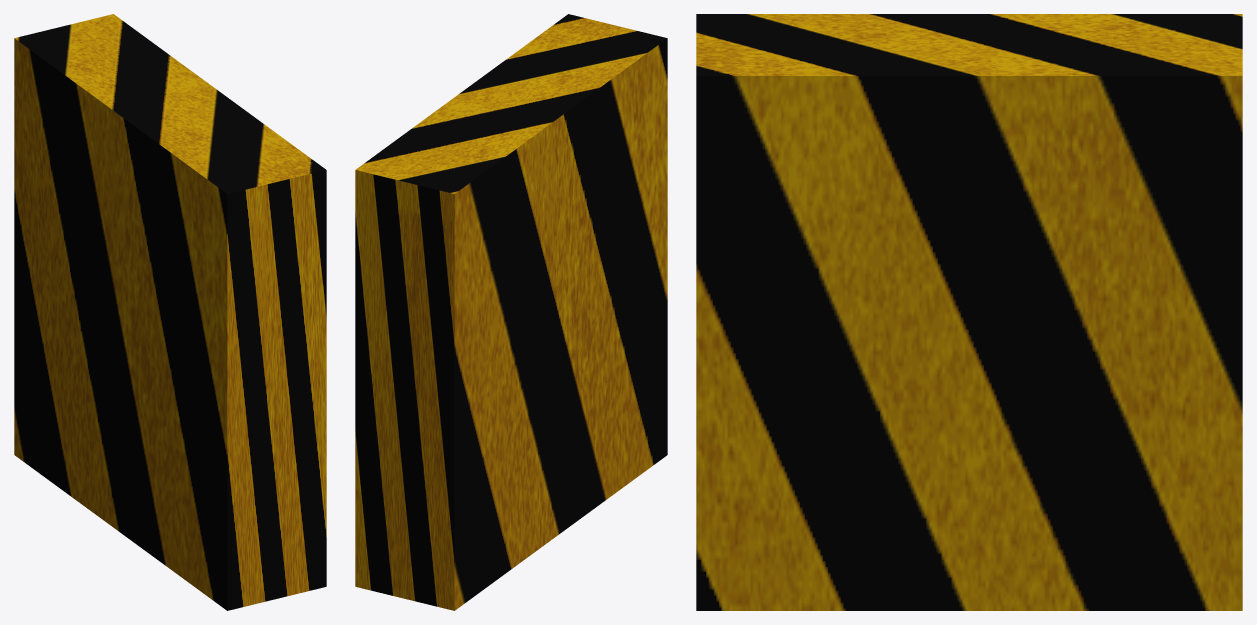
File: BasePalanca.glb
3 views of the same model, side by side, from view 1: azimuth 30°, elevation 25°; view 2: azimuth 150°, elevation 25°; view 3: azimuth 270°, elevation 25° (orthographic). The views are drawn at different scales.
Parts seen in each view (by area): view 1: Cubo.029; view 2: Cubo.029; view 3: Cubo.029.
Boxes of the visible parts, <box> form: Cubo.029: <box>14,14,326,610</box>; Cubo.029: <box>355,14,667,610</box>; Cubo.029: <box>696,14,1242,610</box>.
Bounding box in the file's own units: 0.0983 × 0.3945 × 0.3654.
Materials: 1 (1 with a texture image).
